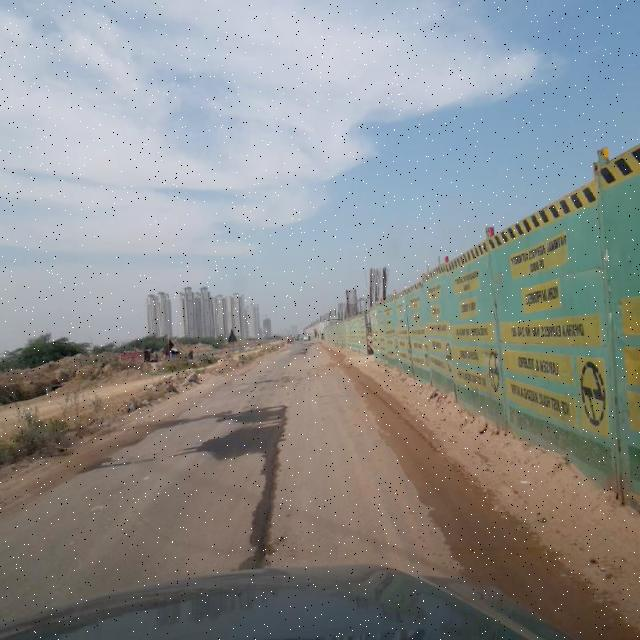D00: (252, 400, 292, 564)
